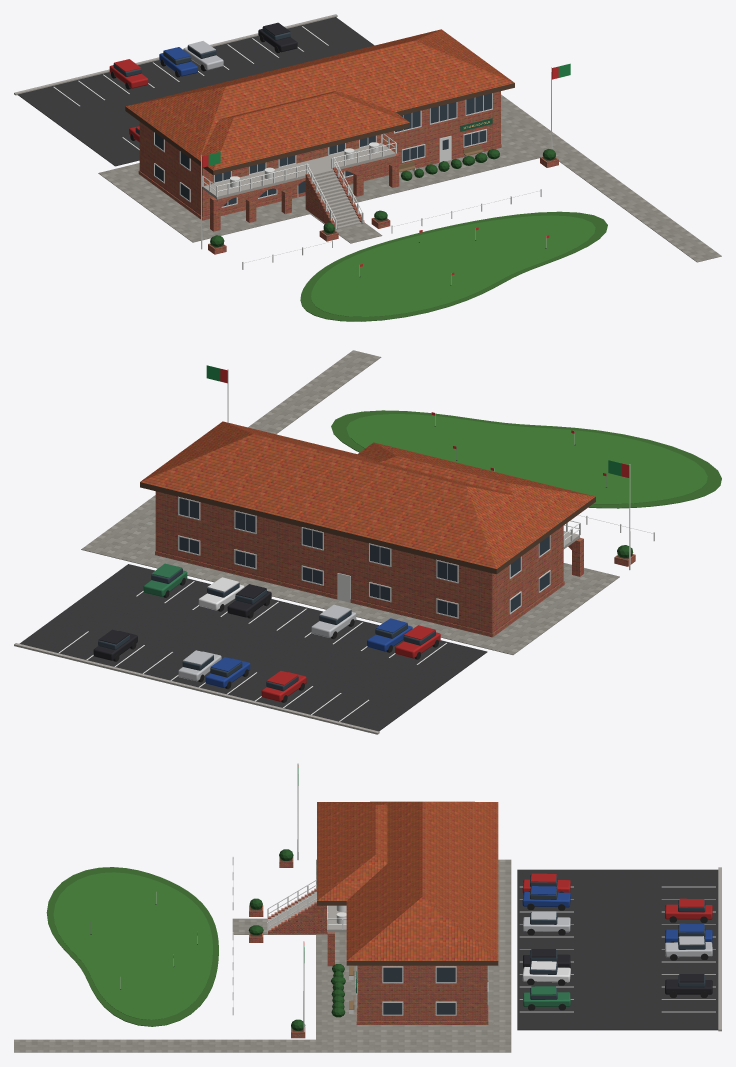
The model's file is SM_Clubhouse.fbx.
3 views of the same model, one above another, from view 1: azimuth 30°, elevation 25°; view 2: azimuth 150°, elevation 25°; view 3: azimuth 270°, elevation 25° (orthographic). The views are drawn at different scales.
Visible parts, largest first — view 1: SM_Clubhouse; view 2: SM_Clubhouse; view 3: SM_Clubhouse.
Boxes of the visible parts, left/top/right/bottom form: SM_Clubhouse: left=14, top=14, right=721, bottom=321; SM_Clubhouse: left=14, top=350, right=721, bottom=734; SM_Clubhouse: left=14, top=763, right=721, bottom=1052.
Size of what is drawn, in the model's own units: 38.56 by 9.49 by 59.8.
